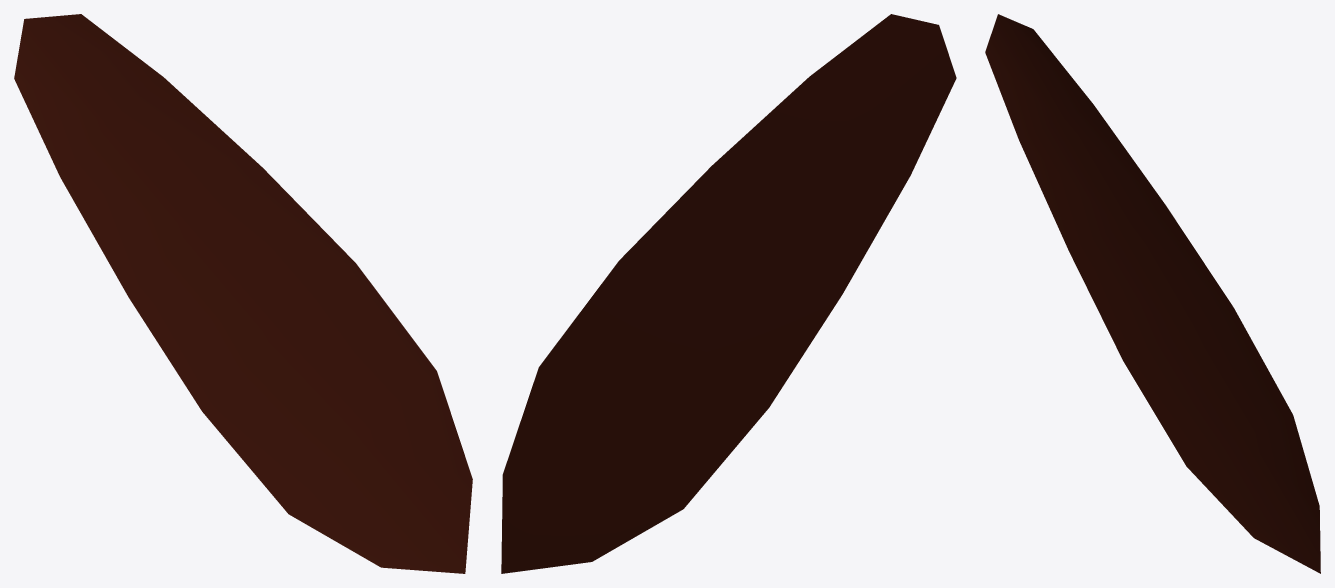
The model's file is pheasant_feather_flight_secondary_038.obj.
The picture shows the model from 3 angles, left to right: view 1: azimuth 30°, elevation 25°; view 2: azimuth 150°, elevation 25°; view 3: azimuth 330°, elevation 25°; orthographic projection. The views are drawn at different scales.
Parts seen in each view (by area): view 1: feather_flight_secondary_038; view 2: feather_flight_secondary_038; view 3: feather_flight_secondary_038.
Boxes of the visible parts, x1,y1,x2,y2 form: feather_flight_secondary_038: (14, 14, 472, 573); feather_flight_secondary_038: (501, 14, 956, 573); feather_flight_secondary_038: (985, 14, 1320, 573).
Bounding box in the file's own units: 0.041 × 0.0566 × 0.00091.
